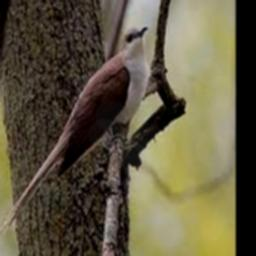Cuckoo: (0, 25, 148, 236)
